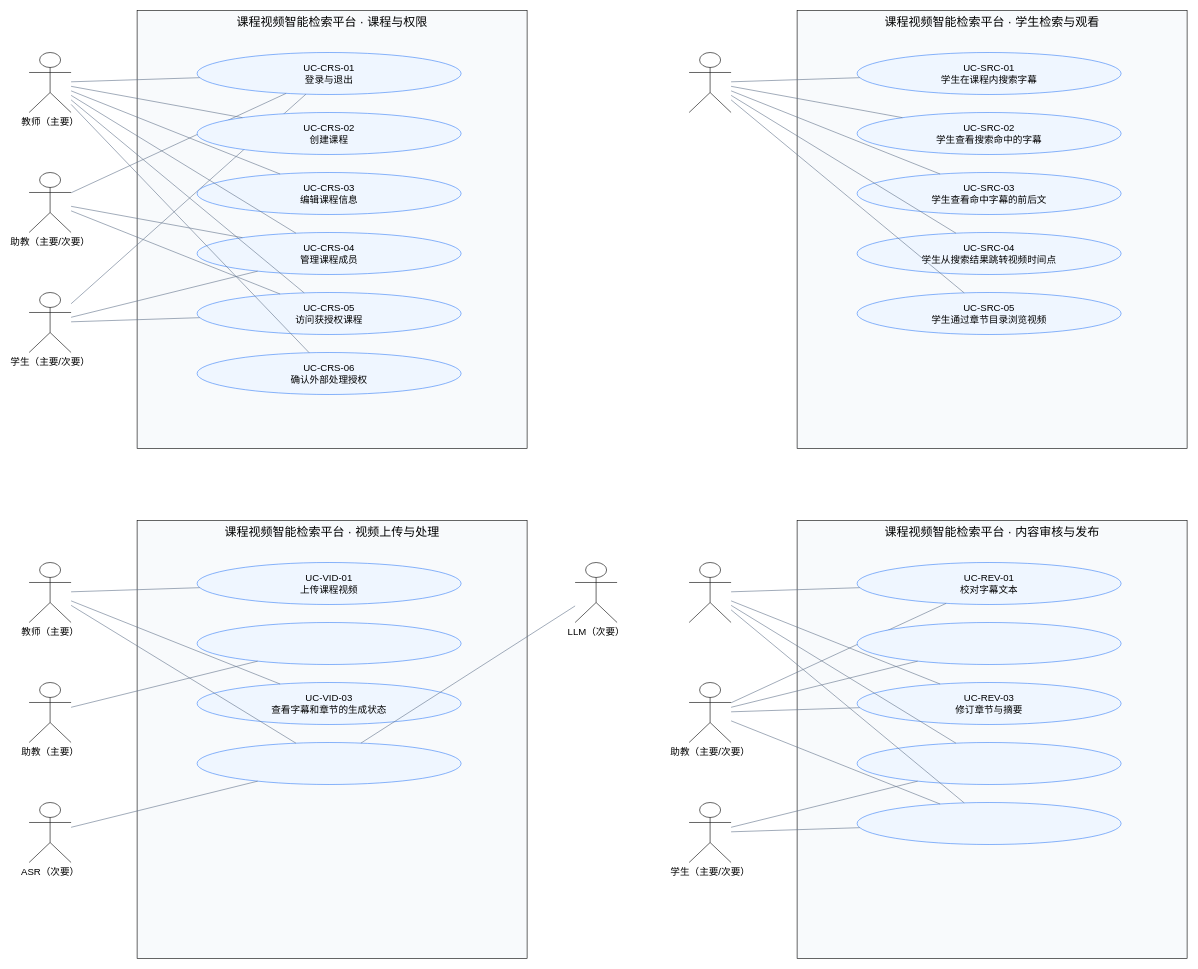
Image size: 1198x969. Some labels were removed from this diagram. Each missing label, with the centre of its shape:
UC-REV-02 修正字幕时间戳: point 988,643
UC-REV-04 审核发布: point 988,763
UC-REV-05 提交内容错误反馈: point 988,823
UC-VID-02 核对已上传的视频: point 328,643
UC-VID-04 使用原视频重试生成: point 328,763
学生（主要）: point 709,82
教师（主要/次要）: point 709,592
